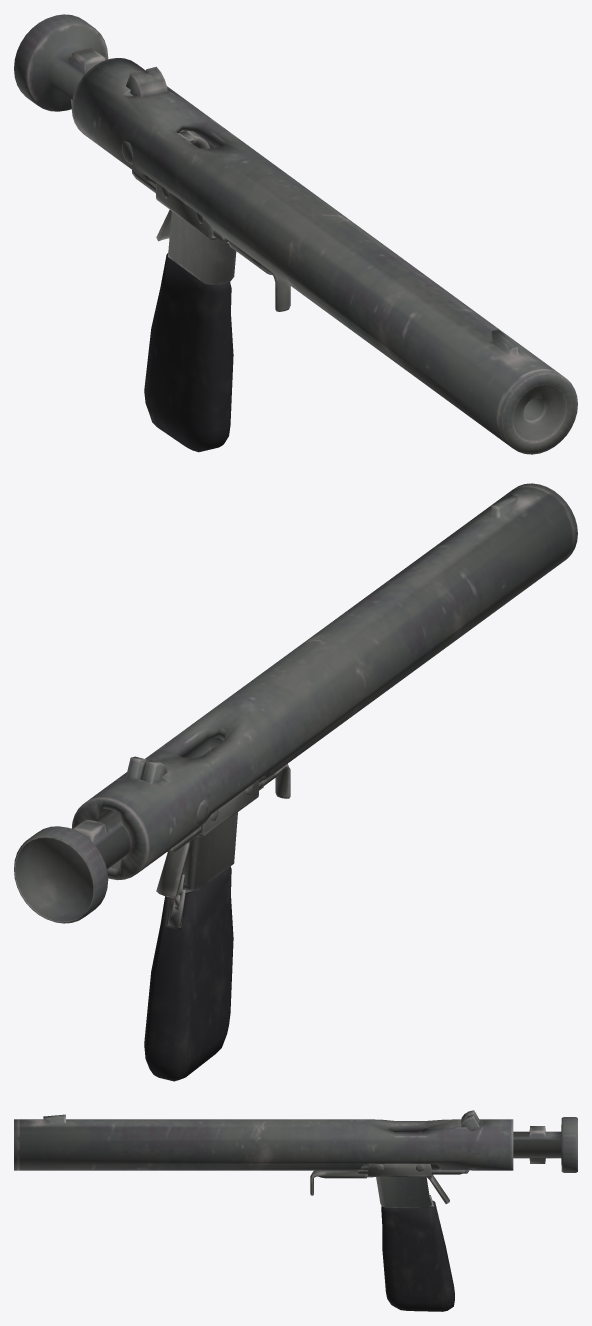
Rendered from welrod-mkii-892e4f.glb.
3 renders of one model, top to bottom at view 1: azimuth 30°, elevation 25°; view 2: azimuth 150°, elevation 25°; view 3: azimuth 270°, elevation 25°, orthographic. The views are drawn at different scales.
Parts seen in each view (by area): view 1: PropMesh; view 2: PropMesh; view 3: PropMesh.
Boxes of the visible parts, bbox=[...] form: PropMesh: bbox=[14, 14, 577, 454]; PropMesh: bbox=[14, 483, 577, 1081]; PropMesh: bbox=[14, 1110, 577, 1311].
Size of the model in its own units: 0.0307 by 0.1187 by 0.31.
Materials: 1 (1 with a texture image).
